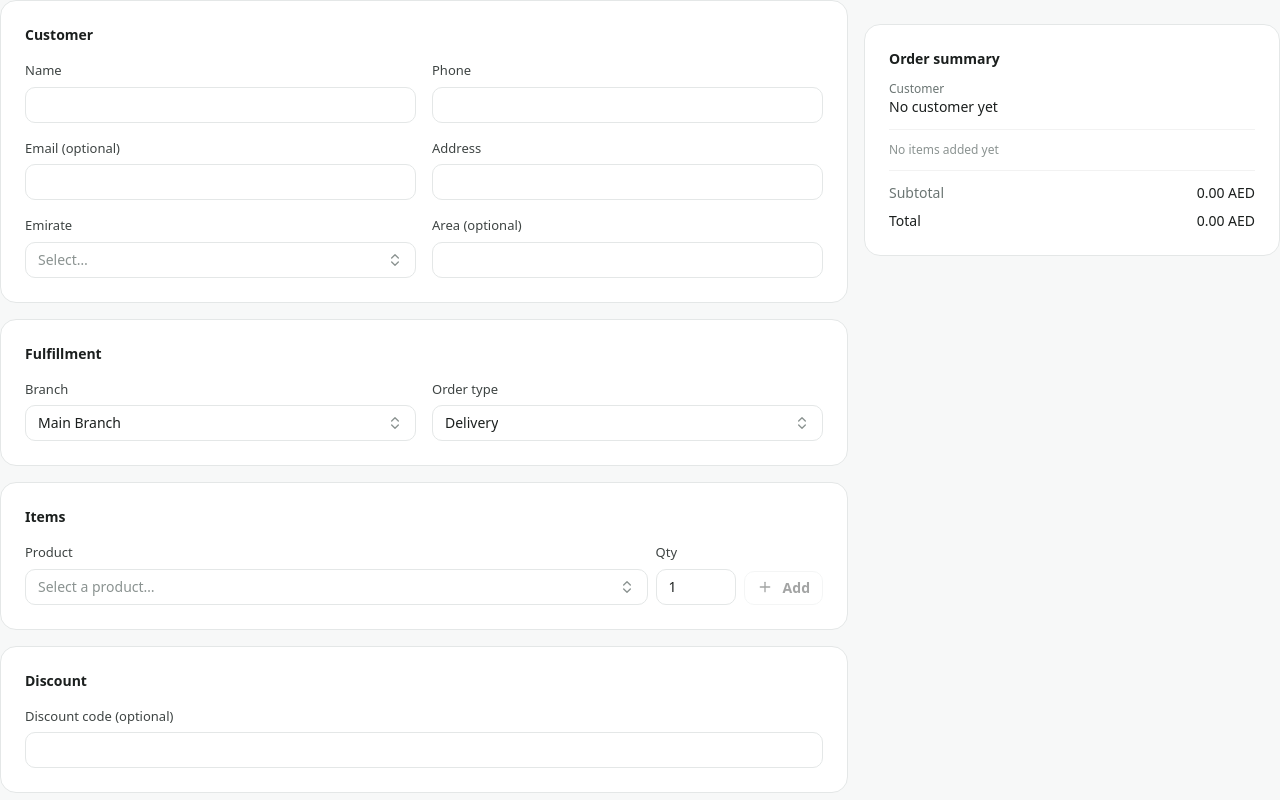
it: DraftOrderBuilder › opens the Emirate combobox and selects an option
The image size is (1280, 800).
Expected: the dropdown labelled "Main Branch" is shown, [25,405,416,441]
Step 1. Click the dropdown labelled "Select…" → (63, 259), box [25,242,416,278]
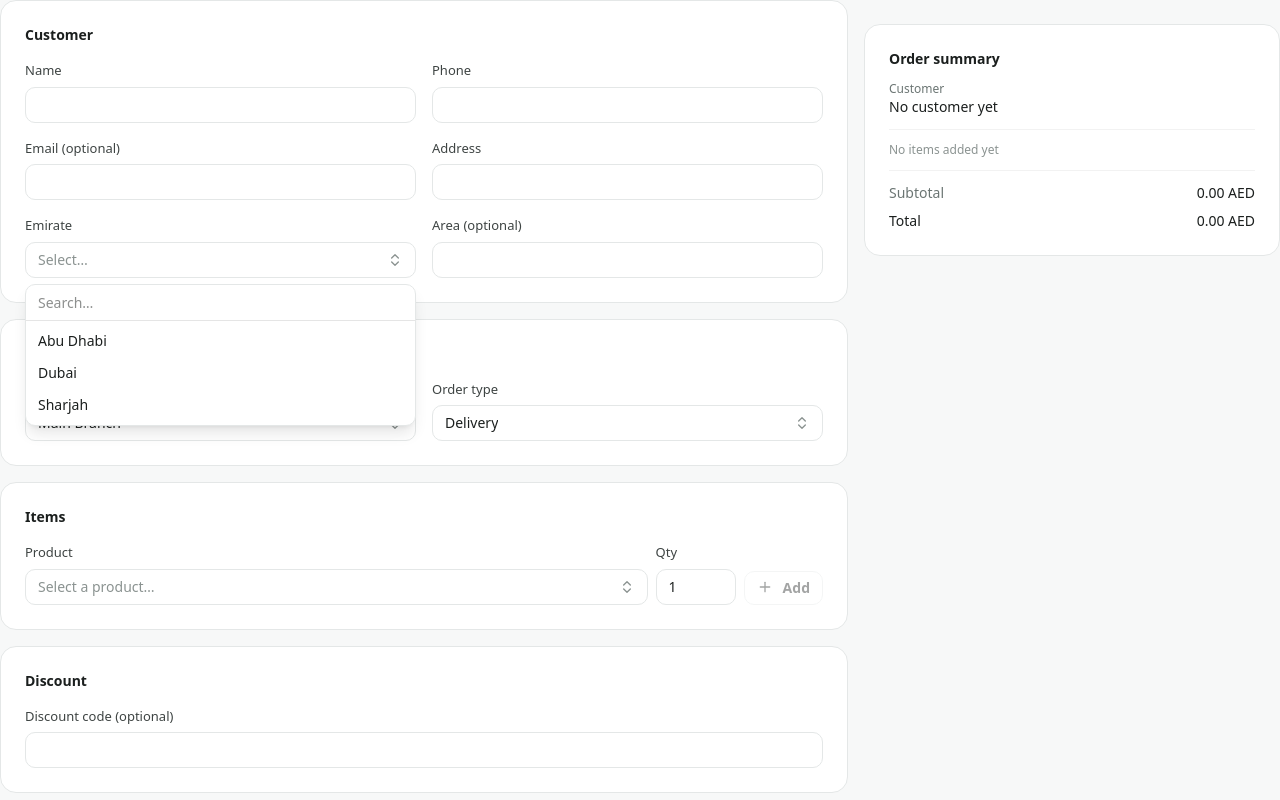
Step 2. Click the option "Sharjah" → (63, 404), box [26,388,415,420]
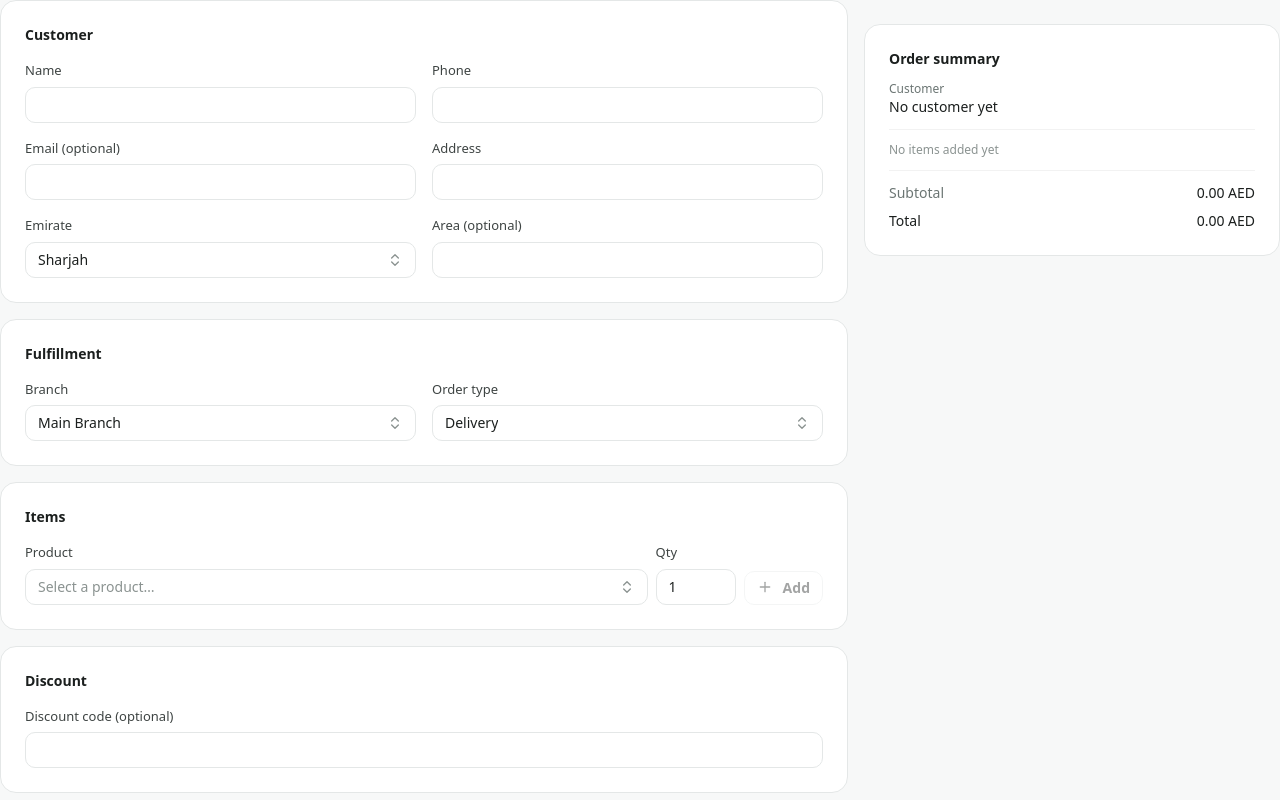
Result: the dropdown labelled "Sharjah" is shown at [25,242,416,278]
